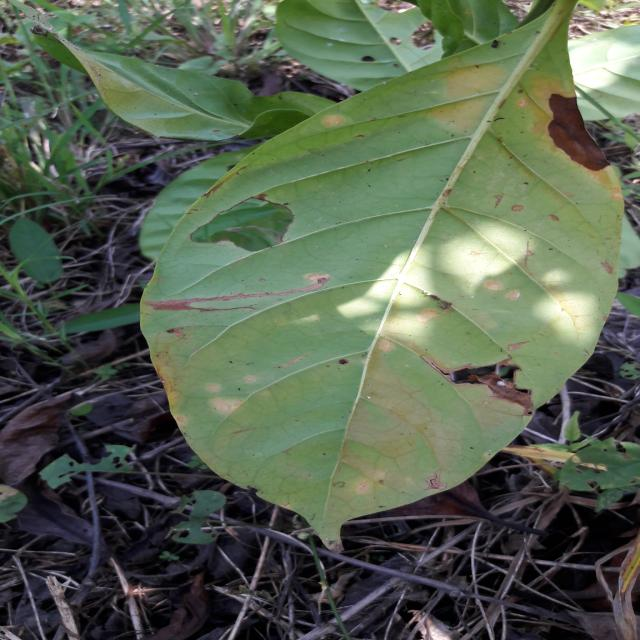Enfermedad-Roya: (138, 0, 626, 545)
